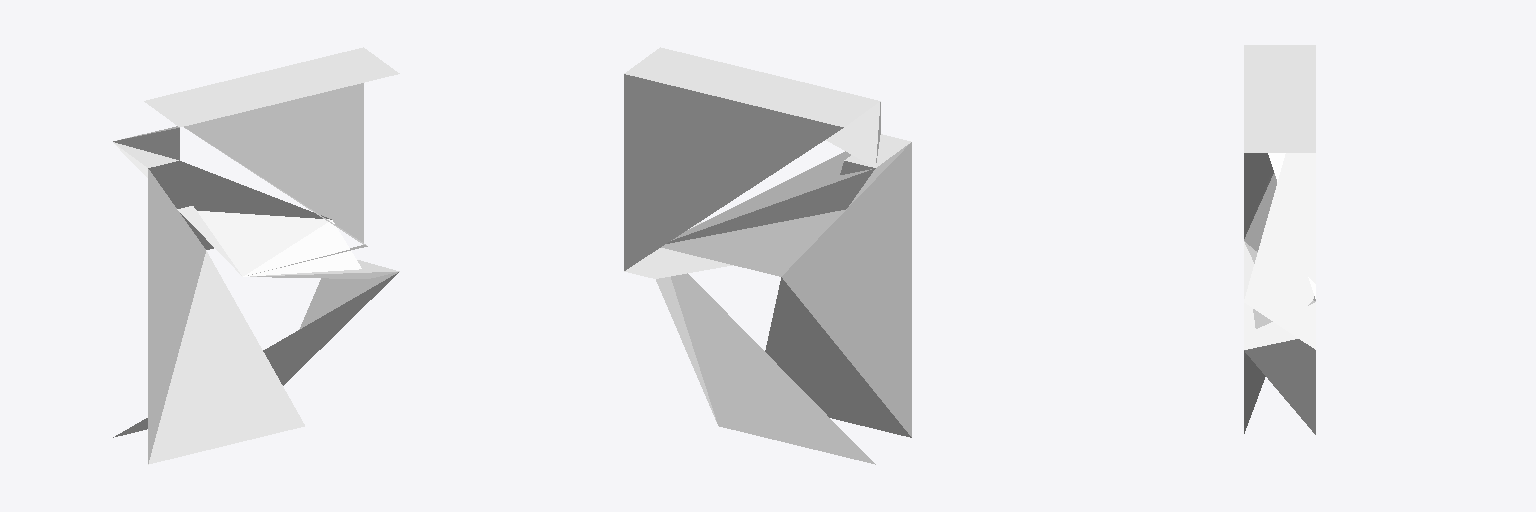
Rendered from speedboost.obj.
The picture shows the model from 3 angles: view 1: azimuth 30°, elevation 25°; view 2: azimuth 150°, elevation 25°; view 3: azimuth 270°, elevation 25°; orthographic projection.
Size of the model in its own units: 8 by 10 by 2.